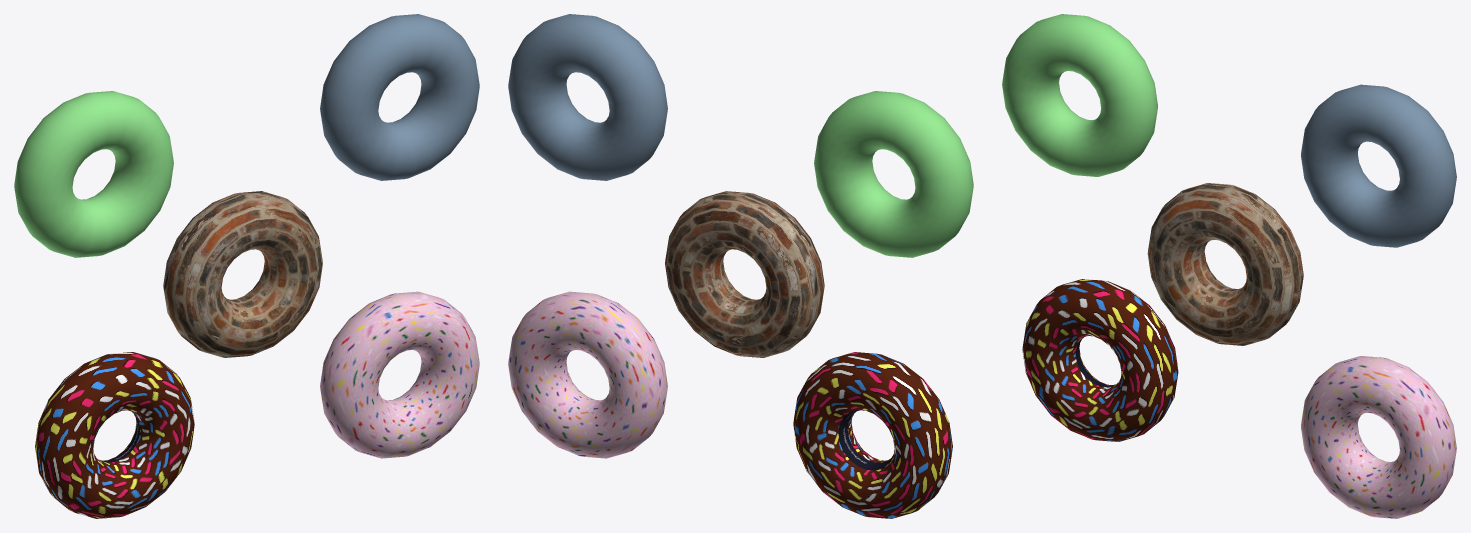
The model's file is donut.fbx.
3 views of the same model, side by side, from view 1: azimuth 30°, elevation 25°; view 2: azimuth 150°, elevation 25°; view 3: azimuth 330°, elevation 25° (orthographic). The views are drawn at different scales.
Visible parts, largest first — view 1: pTorus6; view 2: pTorus6; view 3: pTorus6.
Part boxes in pixels (x1,y1,x2,y2): pTorus6: (14,14,479,518); pTorus6: (508,14,973,518); pTorus6: (1002,14,1456,518).
Size of the model in its own units: 9.03 by 8.23 by 1.
5 materials, 3 textured.
